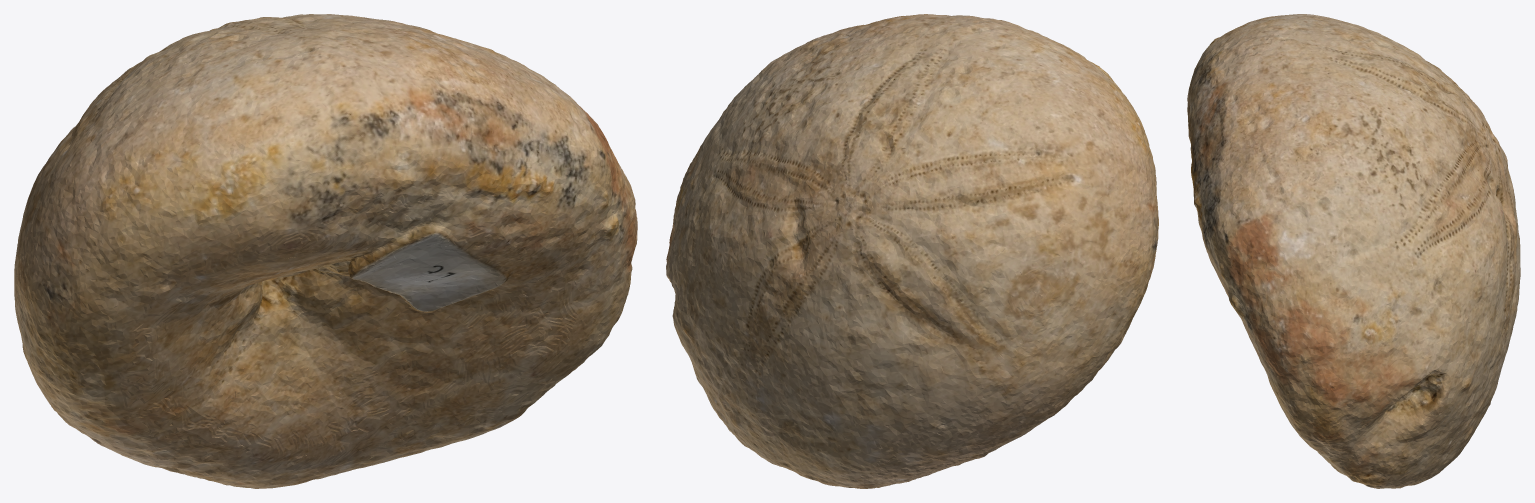
Rendered from MZUR3D-035.glb.
The picture shows the model from 3 angles, left to right: view 1: azimuth 30°, elevation 25°; view 2: azimuth 150°, elevation 25°; view 3: azimuth 270°, elevation 25°; orthographic projection. The views are drawn at different scales.
Parts seen in each view (by area): view 1: MZUR3D-035; view 2: MZUR3D-035; view 3: MZUR3D-035.
Boxes of the visible parts, x1,y1,x2,y2 form: MZUR3D-035: (14,14,637,488); MZUR3D-035: (666,14,1158,488); MZUR3D-035: (1187,14,1520,488).
Bounding box in the file's own units: 0.1742 × 0.1467 × 0.1145.
Materials: 1 (1 with a texture image).
